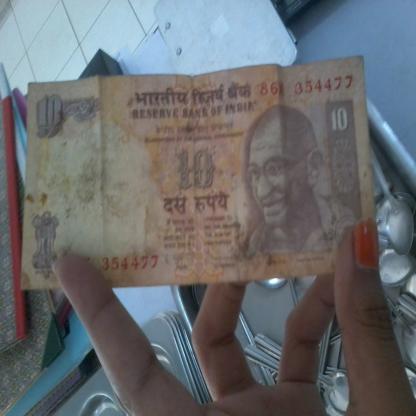Old10Front: (20, 54, 376, 292)
